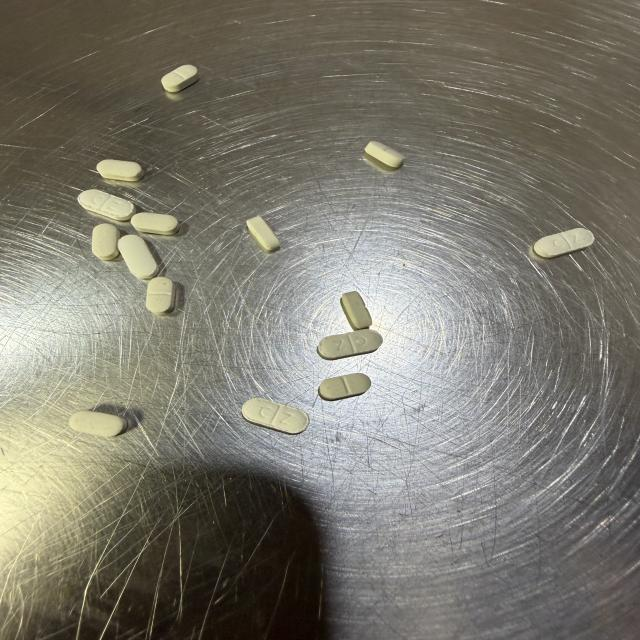pill: (242, 398, 309, 434), (318, 329, 382, 359), (78, 190, 135, 221), (118, 235, 158, 279), (534, 228, 594, 257), (318, 373, 371, 400), (70, 411, 127, 436), (247, 217, 279, 252), (341, 292, 371, 329), (146, 277, 175, 314), (131, 213, 179, 235), (365, 141, 404, 167), (97, 160, 144, 181), (92, 224, 119, 260), (162, 65, 198, 92)
